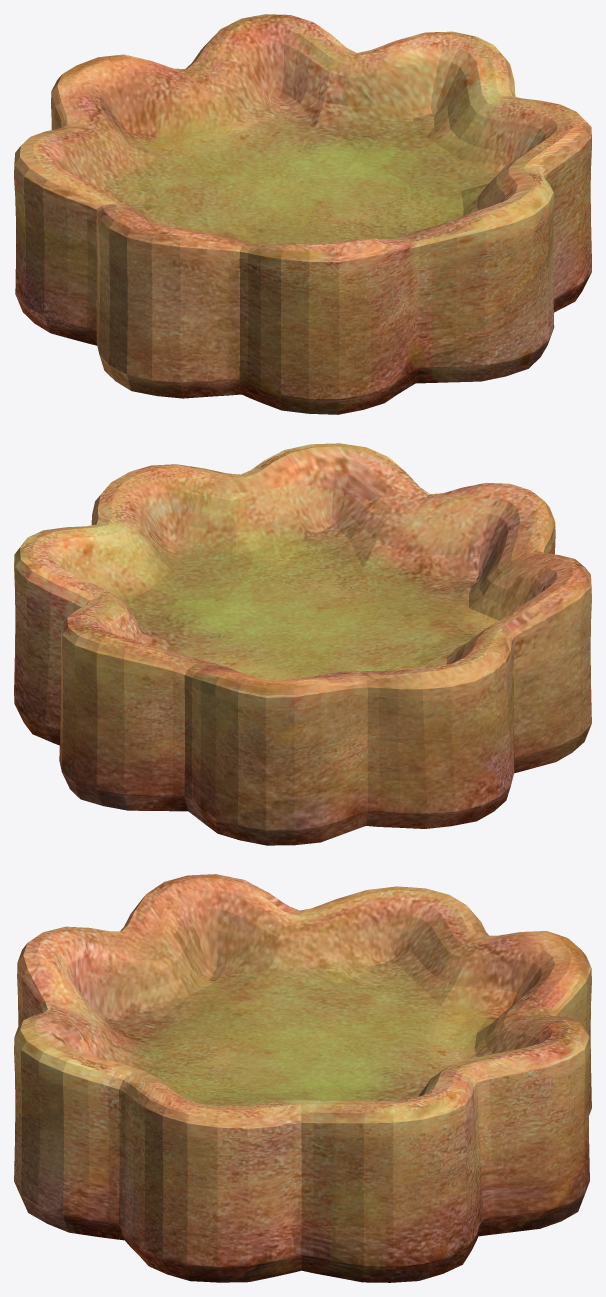
Rendered from kueh_bingka.gltf.
3 views of the same model, one above another, from view 1: azimuth 30°, elevation 25°; view 2: azimuth 150°, elevation 25°; view 3: azimuth 270°, elevation 25° (orthographic). The views are drawn at different scales.
Visible parts, largest first — view 1: Kueh Bingka; view 2: Kueh Bingka; view 3: Kueh Bingka.
Boxes of the visible parts, bbox=[...] form: Kueh Bingka: bbox=[14, 14, 591, 414]; Kueh Bingka: bbox=[14, 443, 591, 845]; Kueh Bingka: bbox=[14, 874, 591, 1282].
Size of the model in its own units: 7.27 by 2.56 by 7.26.
Materials: 1 (1 with a texture image).
